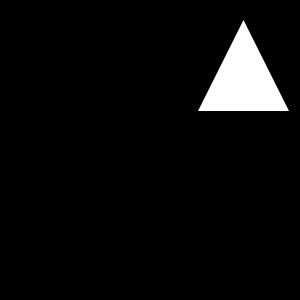triangle: (198, 20, 289, 111)
